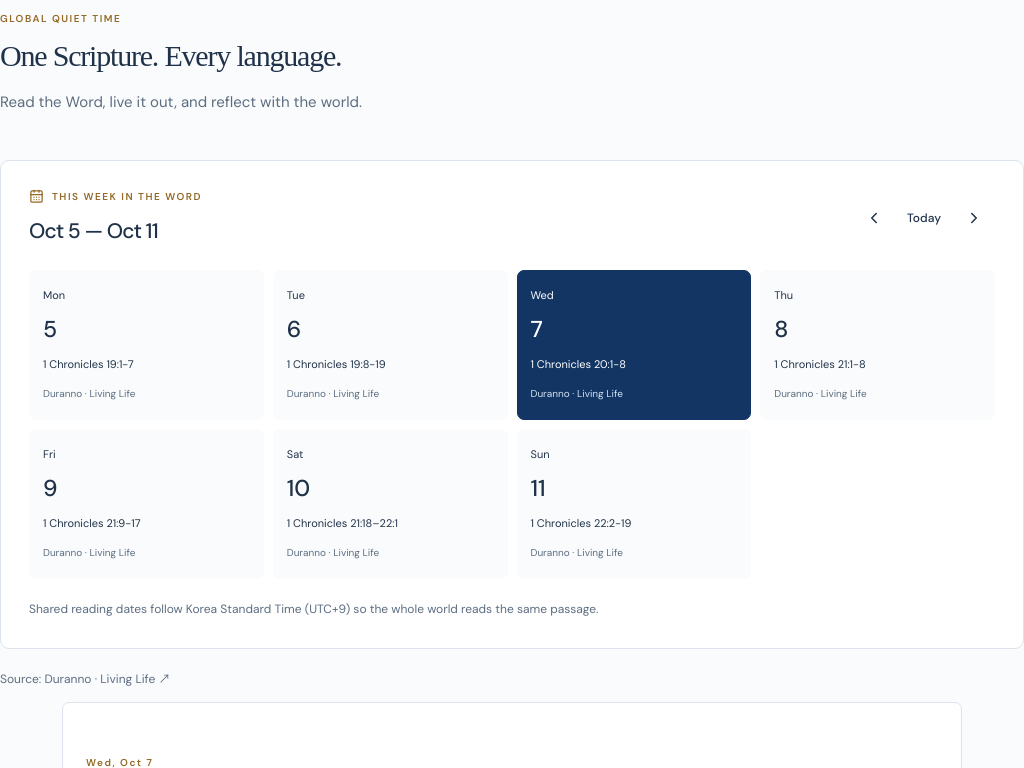
Test: updates the URL and reading together when choosing Today
Click the button "Today": click(924, 218) [907,196,941,240]
(page scrolled)
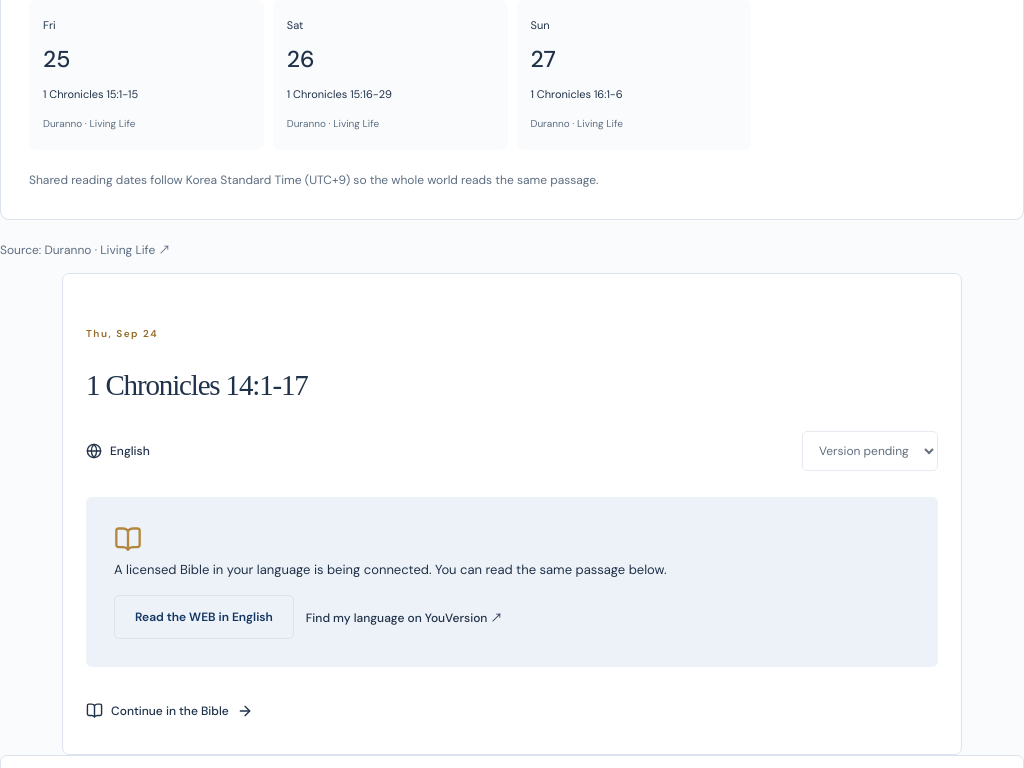
Now the heading "1 Chronicles 14:1-17" is shown, box [86,369,308,401]
